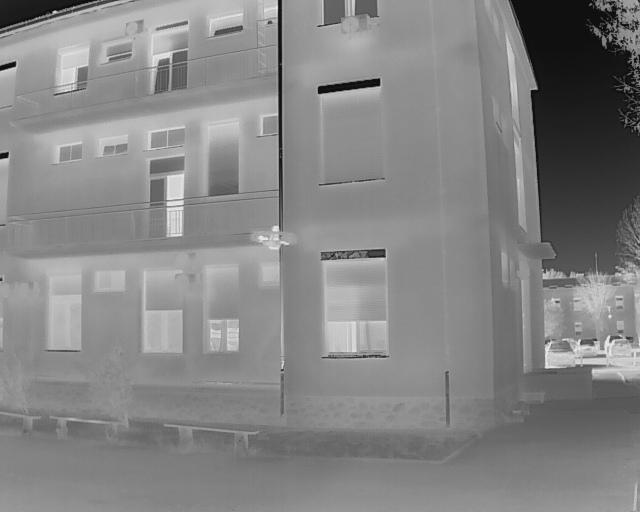drone: (244, 226, 300, 255)
